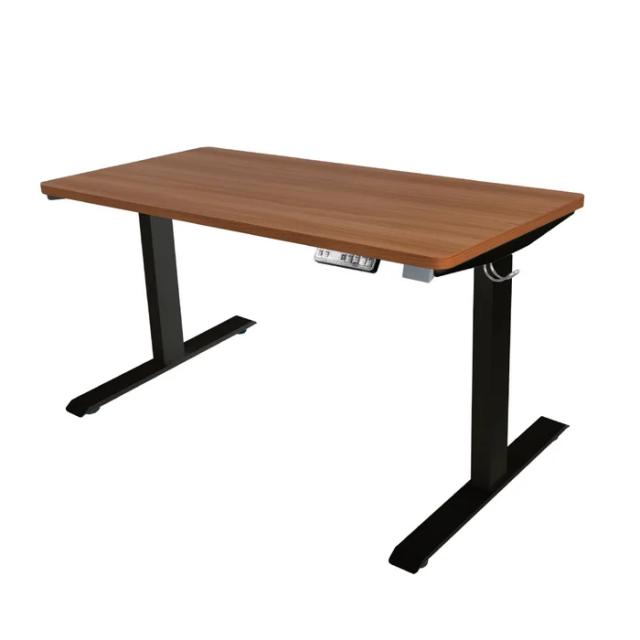table: (18, 128, 604, 576)
